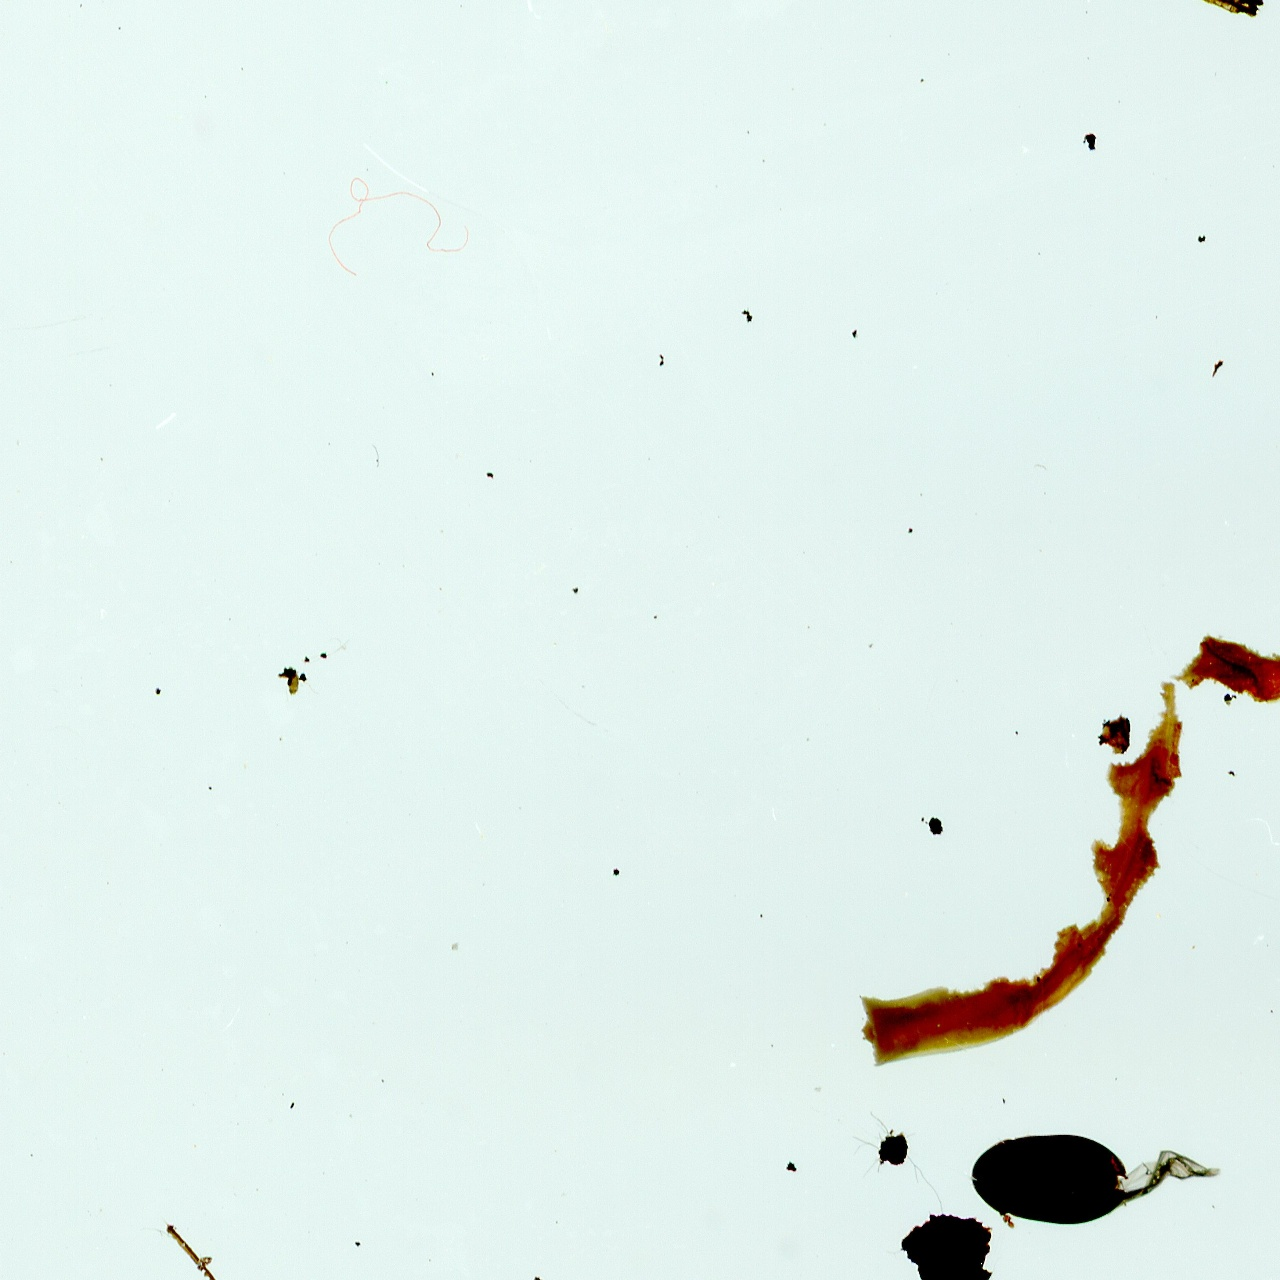arthropod: (969, 1130, 1225, 1232)
